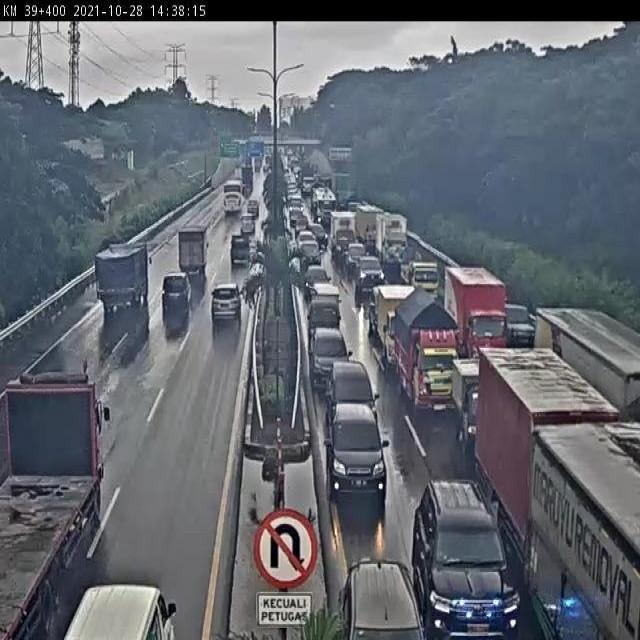big bus: (224, 177, 243, 212)
big truck: (477, 345, 640, 640), (0, 346, 115, 640), (537, 307, 640, 433), (398, 287, 456, 416), (443, 266, 509, 366), (89, 234, 150, 318), (178, 220, 217, 277)
car: (425, 470, 515, 640), (59, 573, 187, 640), (326, 402, 396, 509), (344, 554, 423, 640), (308, 326, 355, 394), (330, 359, 375, 420), (158, 268, 194, 316), (506, 300, 537, 344), (213, 280, 242, 320), (241, 216, 258, 236), (248, 194, 264, 214)
small truck: (458, 358, 496, 446), (228, 233, 256, 268)
